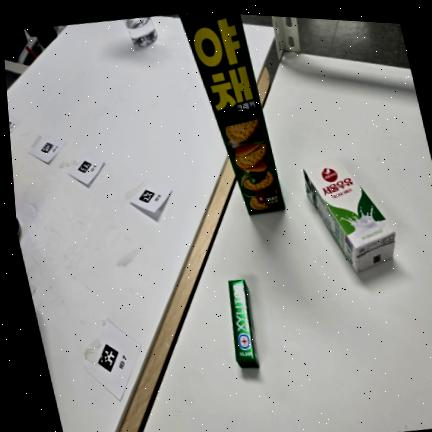cracker_vege: (179, 12, 285, 215)
gum_green: (228, 280, 259, 368)
milk_green: (304, 157, 395, 272)
